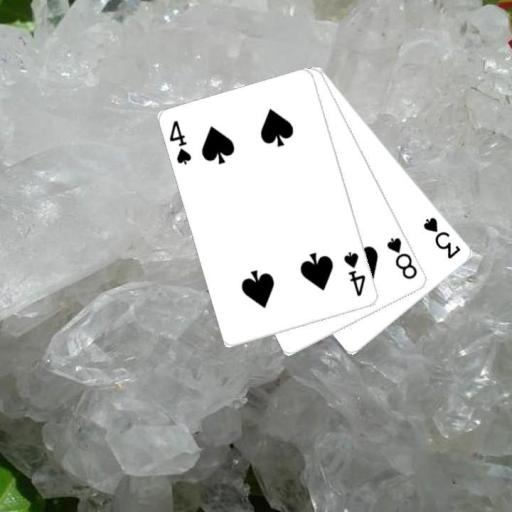3S: (420, 214, 463, 260)
4S: (341, 249, 368, 298), (167, 118, 194, 167)
8S: (384, 234, 420, 281)
